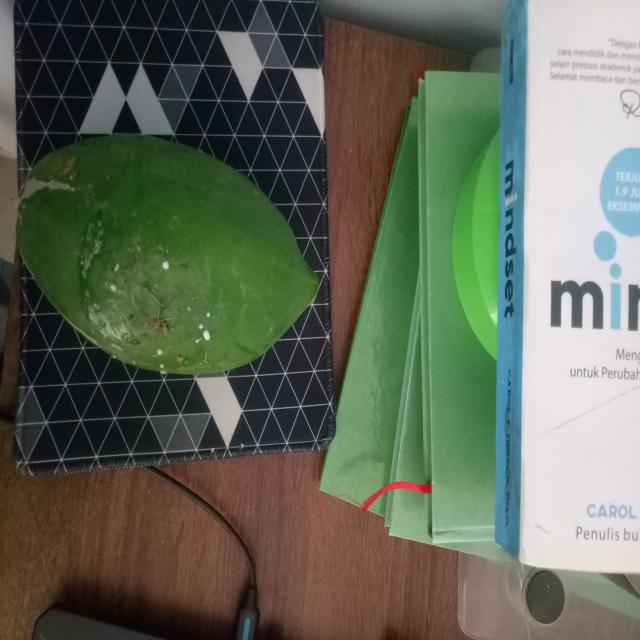Pepaya unrippen: (12, 123, 316, 387)
